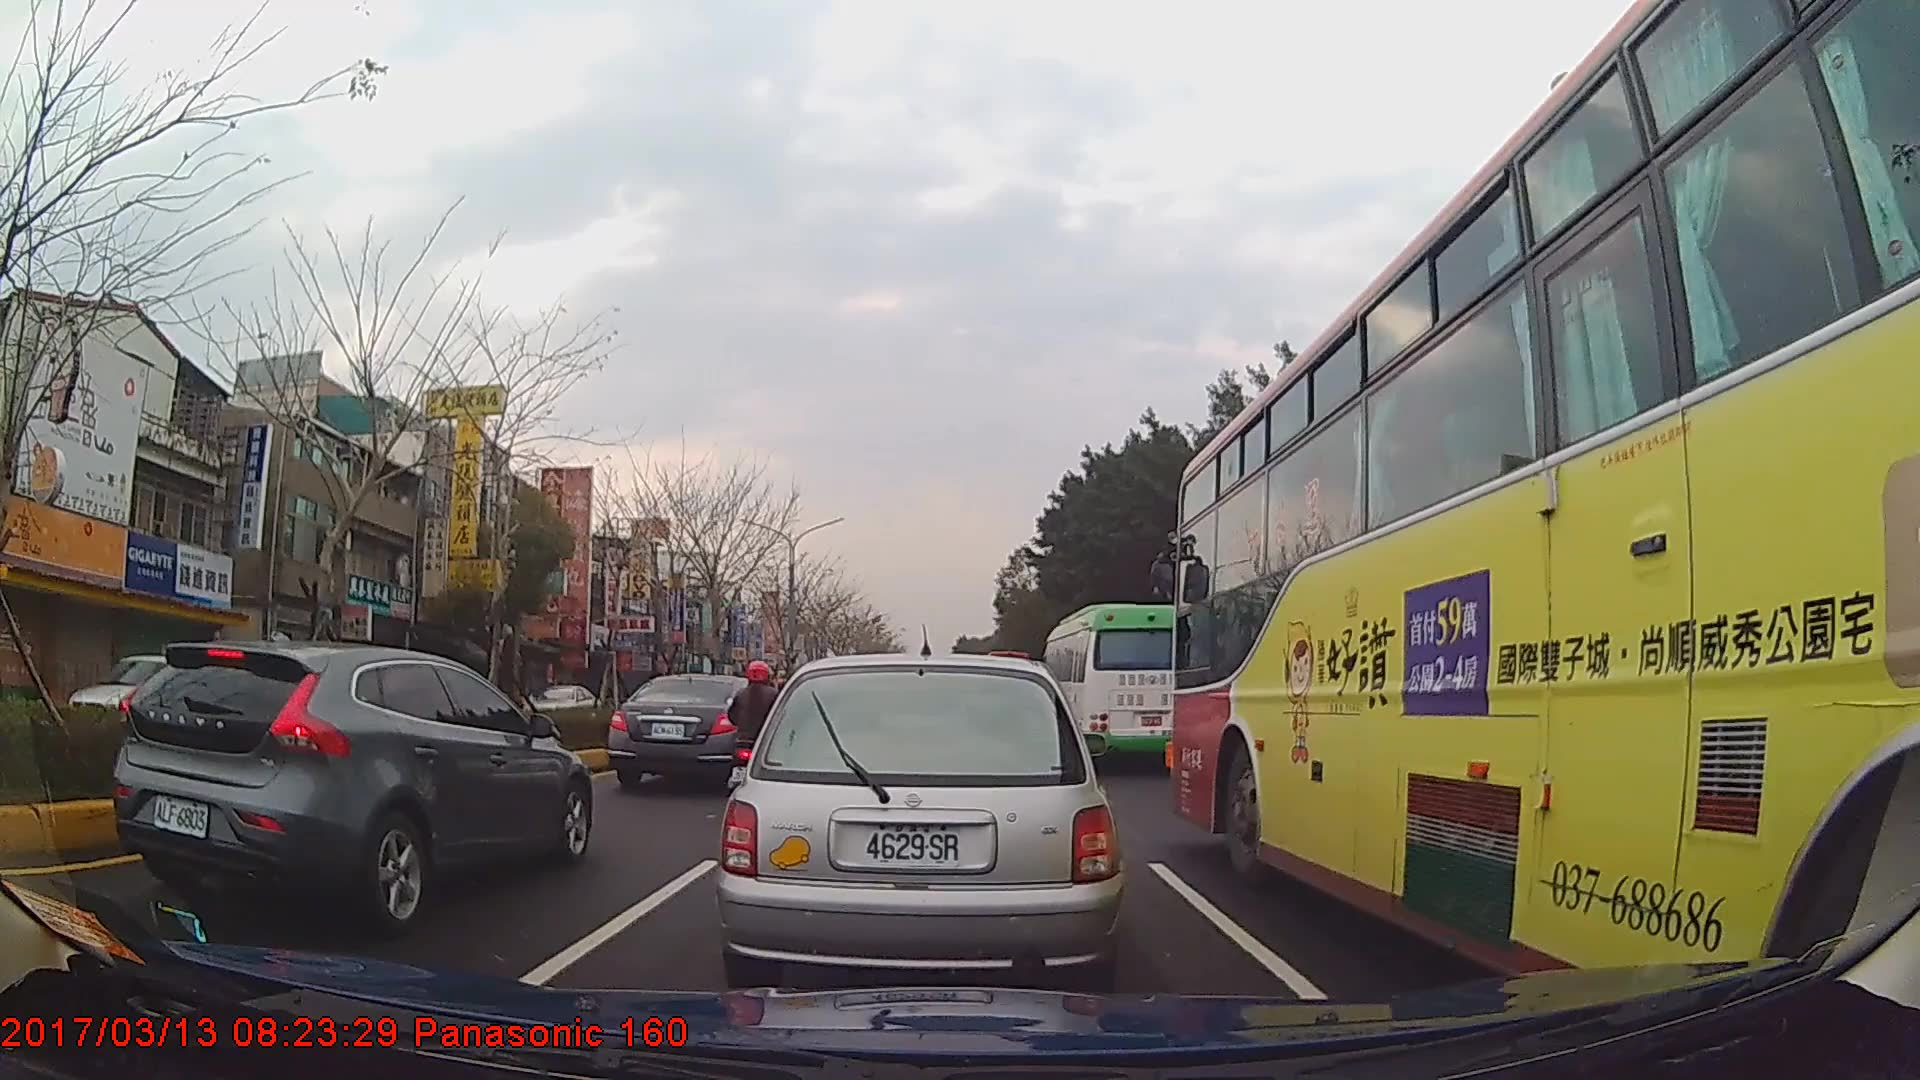rider: (727, 659, 793, 811)
vehicle: (1172, 0, 1920, 1024), (106, 637, 589, 929), (716, 647, 1120, 990), (1042, 603, 1185, 765), (607, 672, 772, 793), (62, 651, 237, 753), (520, 681, 598, 725)
